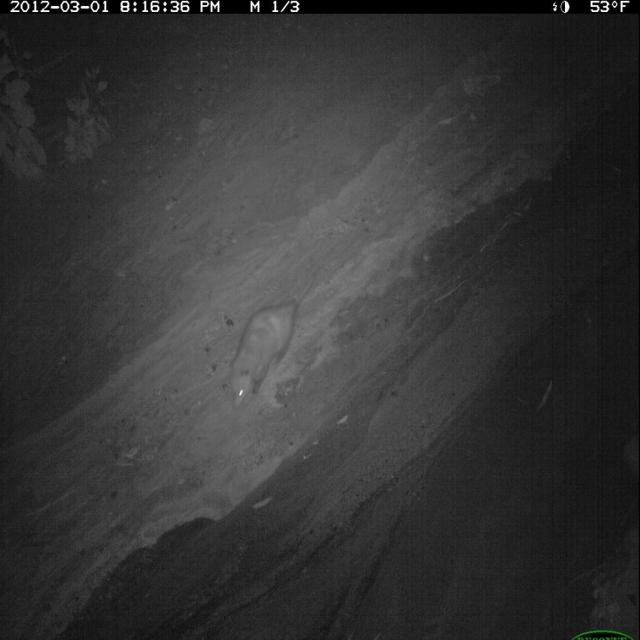opossum: (229, 267, 323, 416)
